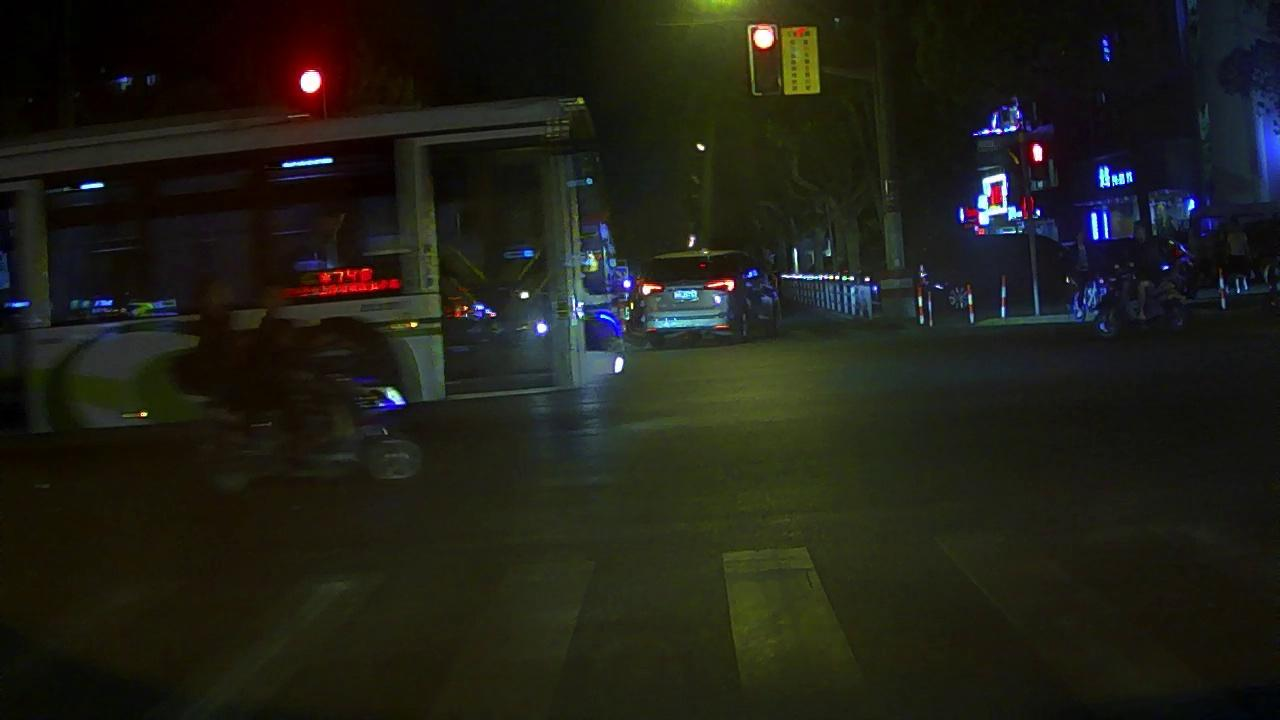traffic_light: (749, 24, 784, 94), (290, 65, 329, 101)
